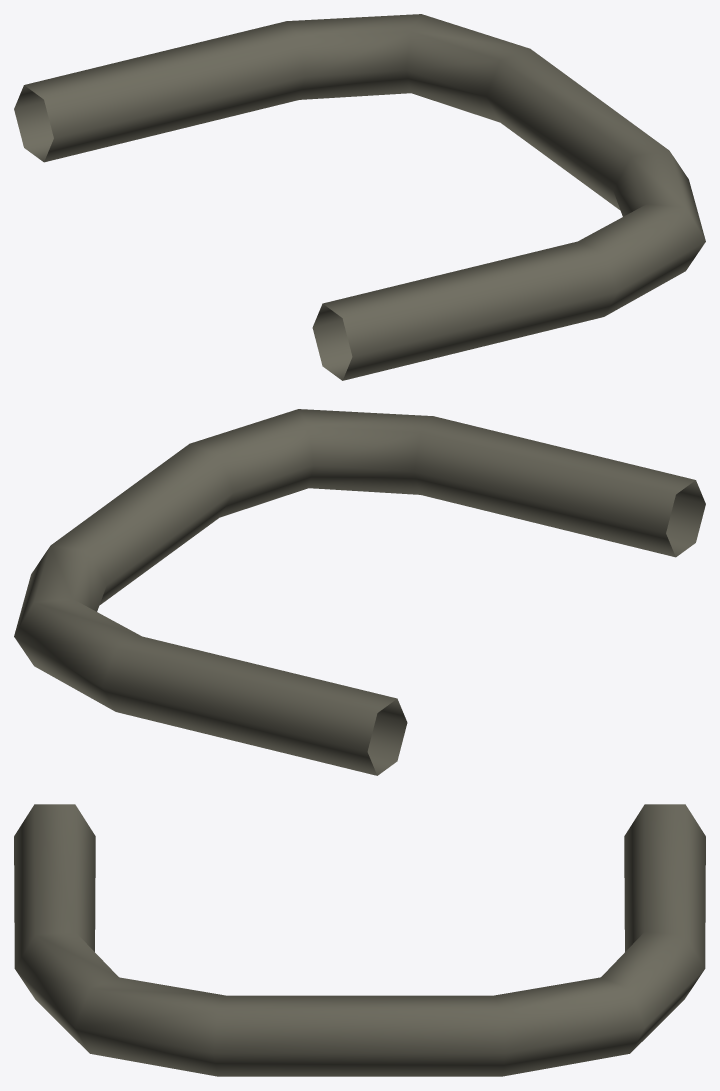
Rendered from Grenade_HE_02_Pin.fbx.
3 views of the same model, one above another, from view 1: azimuth 30°, elevation 25°; view 2: azimuth 150°, elevation 25°; view 3: azimuth 270°, elevation 25° (orthographic). The views are drawn at different scales.
Parts seen in each view (by area): view 1: Grenade_HE_02_Pin; view 2: Grenade_HE_02_Pin; view 3: Grenade_HE_02_Pin.
Boxes of the visible parts, <box> form: Grenade_HE_02_Pin: <box>14,14,705,380</box>; Grenade_HE_02_Pin: <box>14,409,705,775</box>; Grenade_HE_02_Pin: <box>14,804,705,1076</box>.
Size of the model in its own units: 2.98 by 0.4178 by 4.02.
